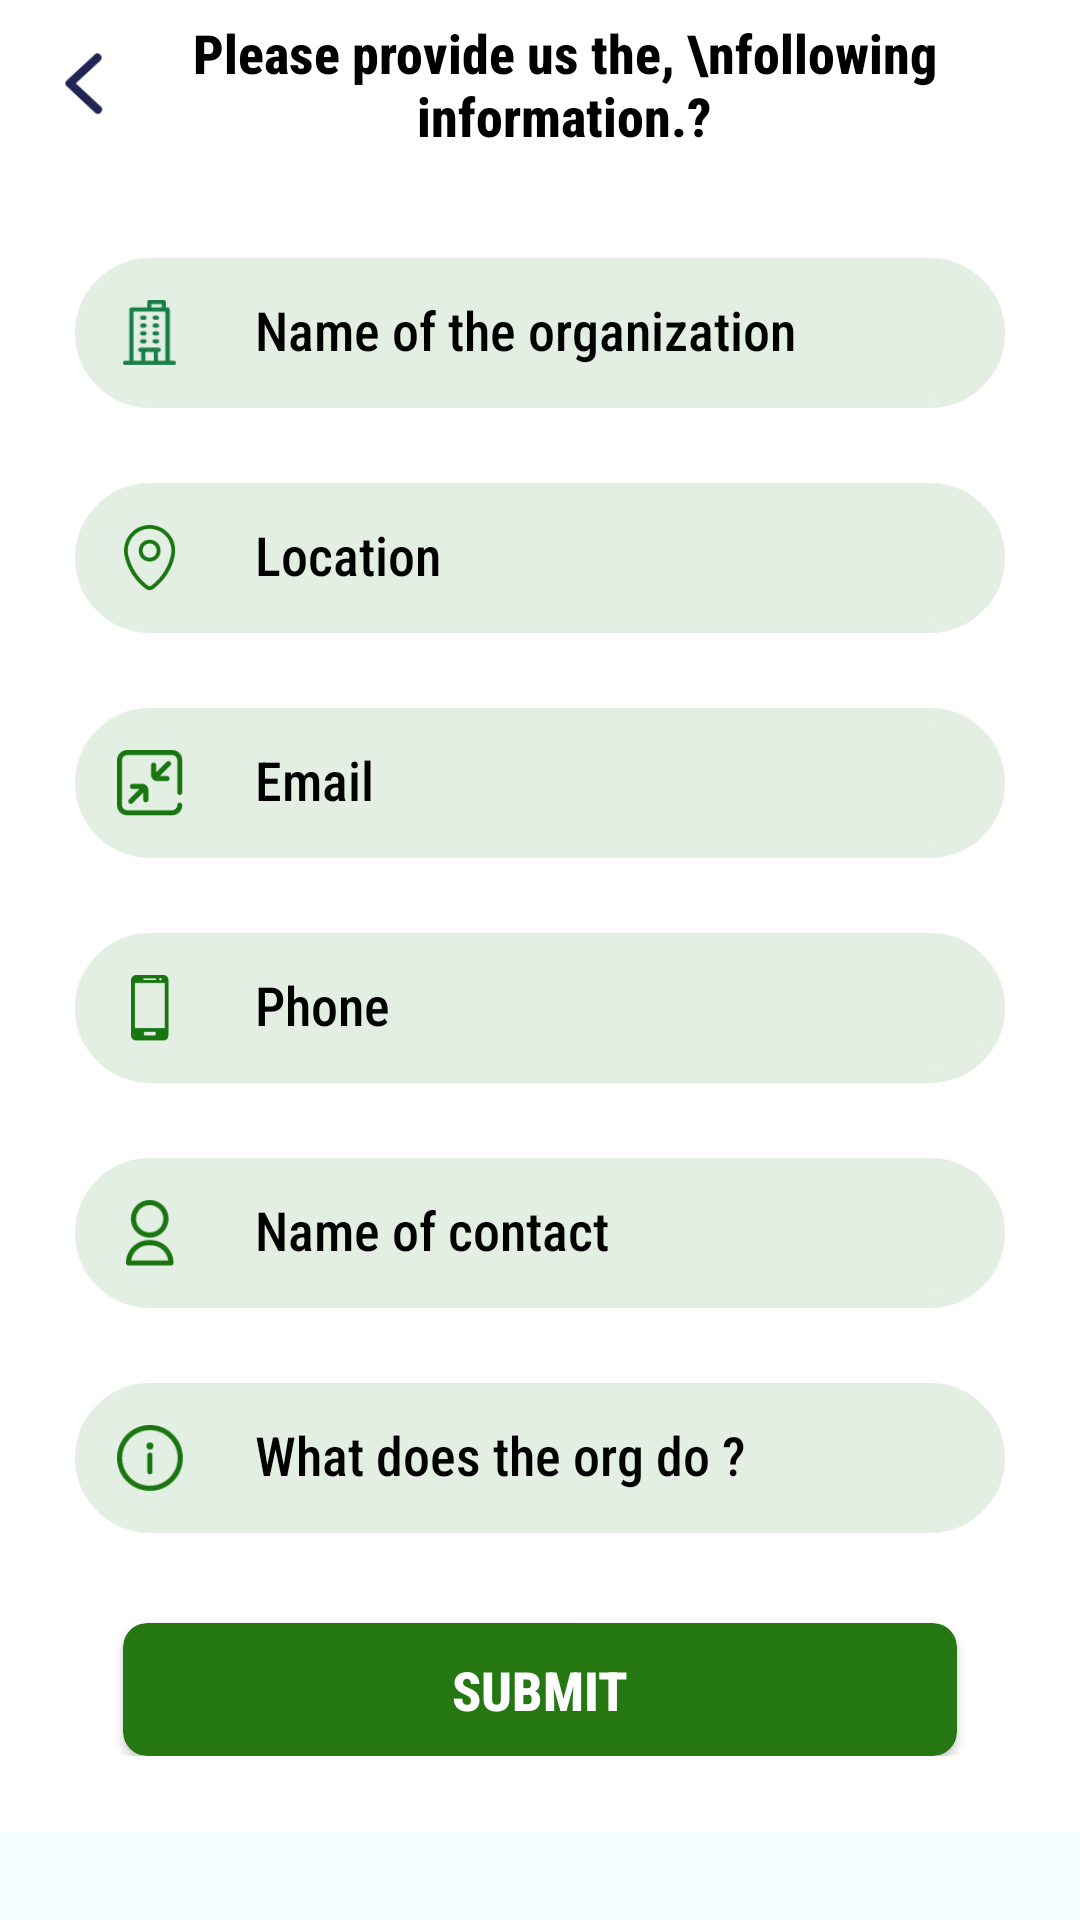

Icons on this 1080px x 1920px Android screen, each with its box as (x1, y1, x2, y2):
address: (124, 525, 175, 590)
back: (65, 53, 103, 115)
company: (123, 300, 176, 365)
information: (117, 1425, 183, 1491)
size: (117, 750, 183, 816)
userform: (126, 1200, 174, 1266)
